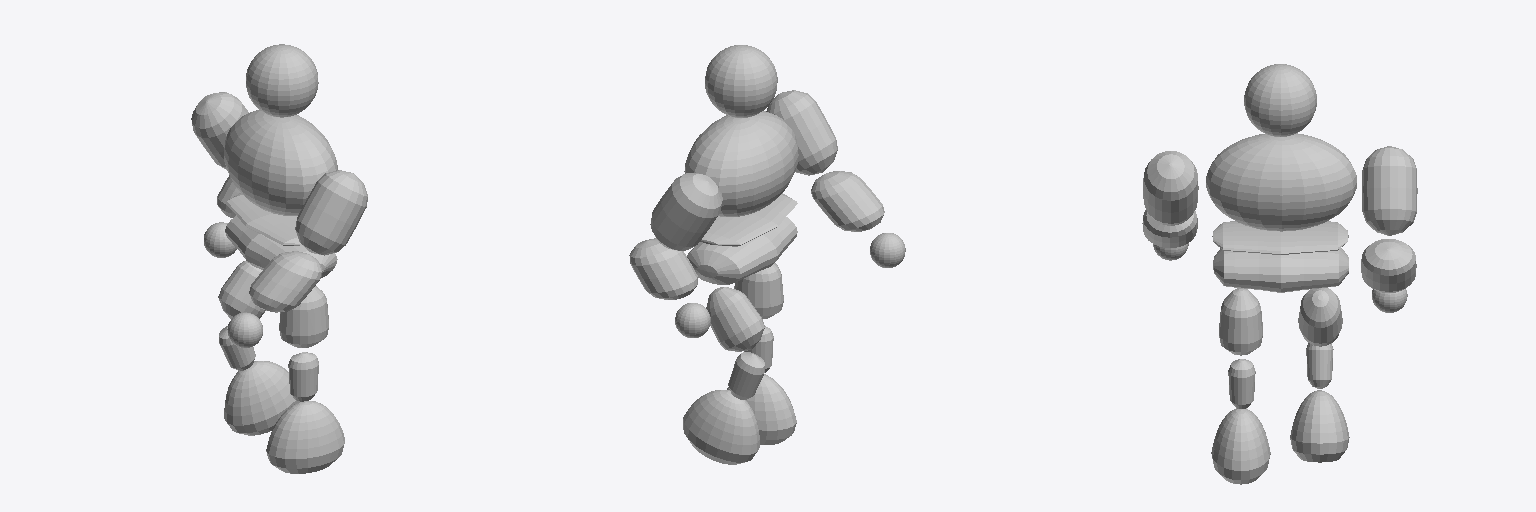
Rendered from PTwo4.obj.
The picture shows the model from 3 angles: view 1: azimuth 30°, elevation 25°; view 2: azimuth 150°, elevation 25°; view 3: azimuth 270°, elevation 25°; orthographic projection.
Parts seen in each view (by area): view 1: pSphere1 polySurface1, group3 pasted__group pasted__pasted__pSphere1 polySurface1, pCylinder2 polySurface1, pSphere3 polySurface1, group7 pasted__group3 pasted__pasted__group pasted__pasted__past, group15 pasted__group14 pasted__pasted__group13 pasted__pasted__, group12 pasted__pCylinder2 polySurface1, group6 pasted__group5 pasted__pasted__group4 pasted__pasted__pas, pCylinder1 polySurface1, group11 pasted__pCylinder1 polySurface1, group10 pasted__group6 pasted__pasted__group5 pasted__pasted__pa, group8 pasted__group4 pasted__pasted__pCylinder1 polySurface1 (+3 smaller); view 2: pSphere1 polySurface1, group7 pasted__group3 pasted__pasted__group pasted__pasted__past, pSphere3 polySurface1, group12 pasted__pCylinder2 polySurface1, pCylinder1 polySurface1, pCylinder2 polySurface1, group15 pasted__group14 pasted__pasted__group13 pasted__pasted__, group14 pasted__group13 pasted__pasted__pCylinder2 polySurface1, group10 pasted__group6 pasted__pasted__group5 pasted__pasted__pa, group11 pasted__pCylinder1 polySurface1, group3 pasted__group pasted__pasted__pSphere1 polySurface1, group6 pasted__group5 pasted__pasted__group4 pasted__pasted__pas (+4 smaller); view 3: pSphere1 polySurface1, pCylinder1 polySurface1, group12 pasted__pCylinder2 polySurface1, pSphere3 polySurface1, pCylinder2 polySurface1, group3 pasted__group pasted__pasted__pSphere1 polySurface1, group11 pasted__pCylinder1 polySurface1, group7 pasted__group3 pasted__pasted__group pasted__pasted__past, group14 pasted__group13 pasted__pasted__pCylinder2 polySurface1, group6 pasted__group5 pasted__pasted__group4 pasted__pasted__pas, group10 pasted__group6 pasted__pasted__group5 pasted__pasted__pa, group15 pasted__group14 pasted__pasted__group13 pasted__pasted__ (+3 smaller).
Part boxes in pixels (x1,y1,x2,y2): pSphere1 polySurface1: (224,110,337,215); group3 pasted__group pasted__pasted__pSphere1 polySurface1: (266,401,344,473); pCylinder2 polySurface1: (295,170,367,255); pSphere3 polySurface1: (246,44,318,117); group7 pasted__group3 pasted__pasted__group pasted__pasted__past: (224,361,299,435); group15 pasted__group14 pasted__pasted__group13 pasted__pasted__: (249,251,322,312); group12 pasted__pCylinder2 polySurface1: (191,92,248,169); group6 pasted__group5 pasted__pasted__group4 pasted__pasted__pas: (279,286,328,347); pCylinder1 polySurface1: (225,215,337,277); group11 pasted__pCylinder1 polySurface1: (226,193,301,245); group10 pasted__group6 pasted__pasted__group5 pasted__pasted__pa: (218,261,265,318); group8 pasted__group4 pasted__pasted__pCylinder1 polySurface1: (288,352,318,401); pSphere1 polySurface1: (684,111,798,216); group7 pasted__group3 pasted__pasted__group pasted__pasted__past: (683,390,759,464); pSphere3 polySurface1: (705,45,777,117); group12 pasted__pCylinder2 polySurface1: (650,173,722,250); pCylinder1 polySurface1: (687,217,797,284); pCylinder2 polySurface1: (766,90,837,175); group15 pasted__group14 pasted__pasted__group13 pasted__pasted__: (811,171,884,231); group14 pasted__group13 pasted__pasted__pCylinder2 polySurface1: (629,238,697,299); group10 pasted__group6 pasted__pasted__group5 pasted__pasted__pa: (706,287,764,351); group11 pasted__pCylinder1 polySurface1: (700,193,797,246); group3 pasted__group pasted__pasted__pSphere1 polySurface1: (727,374,796,444); group6 pasted__group5 pasted__pasted__group4 pasted__pasted__pas: (734,263,783,318); pSphere1 polySurface1: (1206,133,1356,231); pCylinder1 polySurface1: (1213,248,1348,292); group12 pasted__pCylinder2 polySurface1: (1362,146,1417,235); pSphere3 polySurface1: (1244,64,1316,136); pCylinder2 polySurface1: (1143,151,1198,225); group3 pasted__group pasted__pasted__pSphere1 polySurface1: (1211,408,1270,484); group11 pasted__pCylinder1 polySurface1: (1212,221,1348,254); group7 pasted__group3 pasted__pasted__group pasted__pasted__past: (1290,390,1349,462); group14 pasted__group13 pasted__pasted__pCylinder2 polySurface1: (1361,239,1416,292); group6 pasted__group5 pasted__pasted__group4 pasted__pasted__pas: (1219,288,1262,355); group10 pasted__group6 pasted__pasted__group5 pasted__pasted__pa: (1298,288,1342,346); group15 pasted__group14 pasted__pasted__group13 pasted__pasted__: (1142,210,1197,247).
Size of the model in its own units: 2.72 by 6.49 by 4.01.